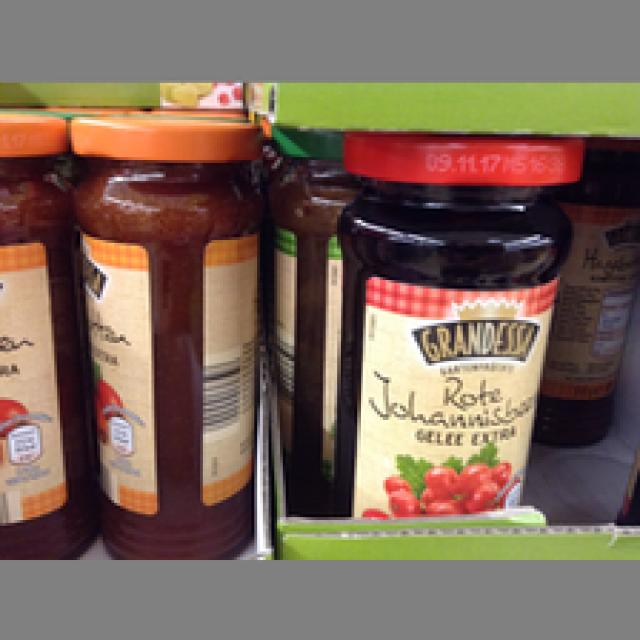groceries: (328, 129, 586, 520), (66, 109, 263, 554), (0, 106, 66, 557)
